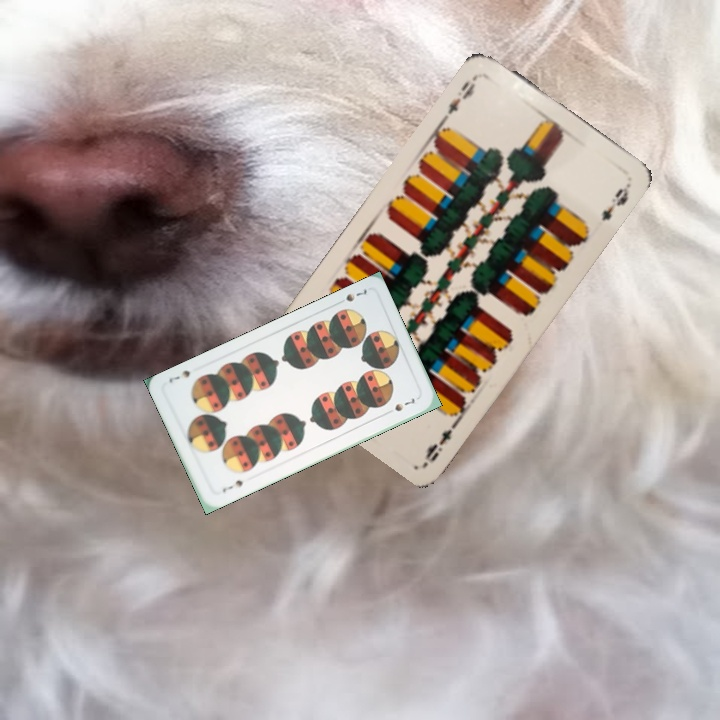E9: (420, 409, 463, 466), (443, 70, 481, 117)
S7: (332, 285, 371, 308), (218, 476, 246, 495)
